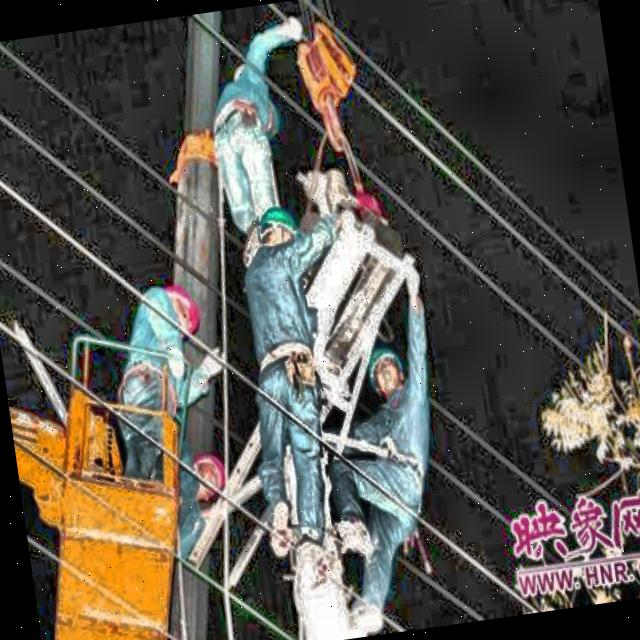helmet: (248, 196, 304, 258), (160, 276, 204, 342), (186, 442, 234, 502), (361, 342, 409, 398)
